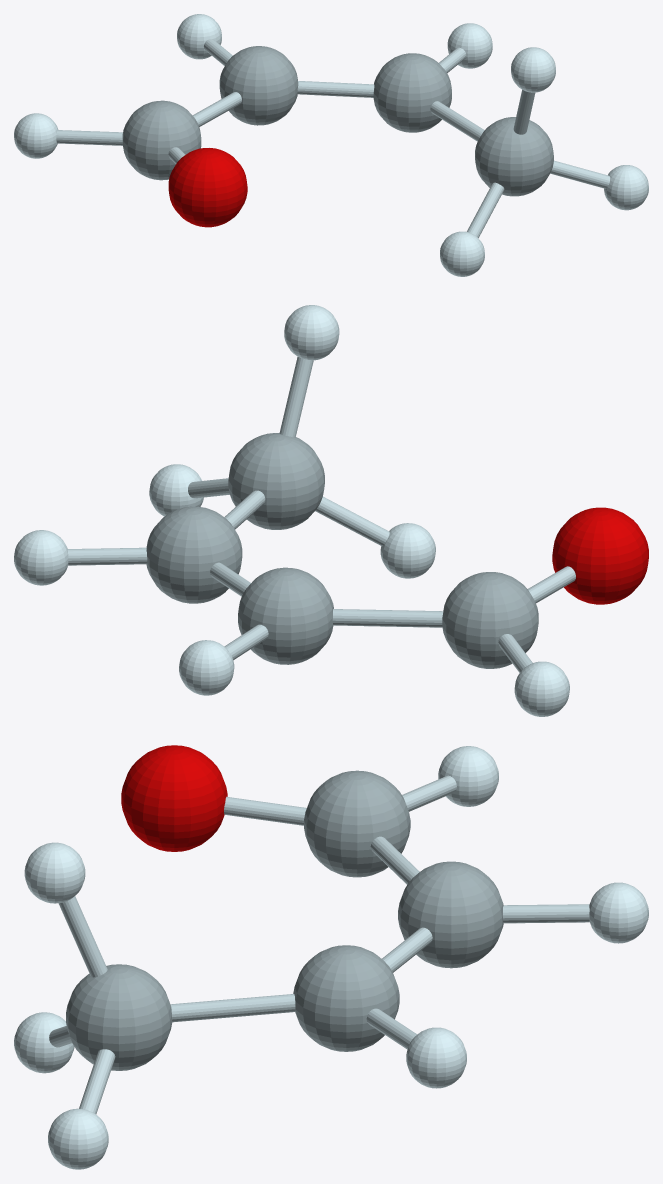
The model's file is irc_003.glb.
3 views of the same model, one above another, from view 1: azimuth 30°, elevation 25°; view 2: azimuth 150°, elevation 25°; view 3: azimuth 270°, elevation 25° (orthographic). The views are drawn at different scales.
Parts seen in each view (by area): view 1: Renderer Node; view 2: Renderer Node; view 3: Renderer Node.
Boxes of the visible parts, x1,y1,x2,y2 form: Renderer Node: (14, 14, 648, 276); Renderer Node: (14, 305, 648, 716); Renderer Node: (14, 745, 648, 1169).
Size of the model in its own units: 4.9 by 1.98 by 4.16.
